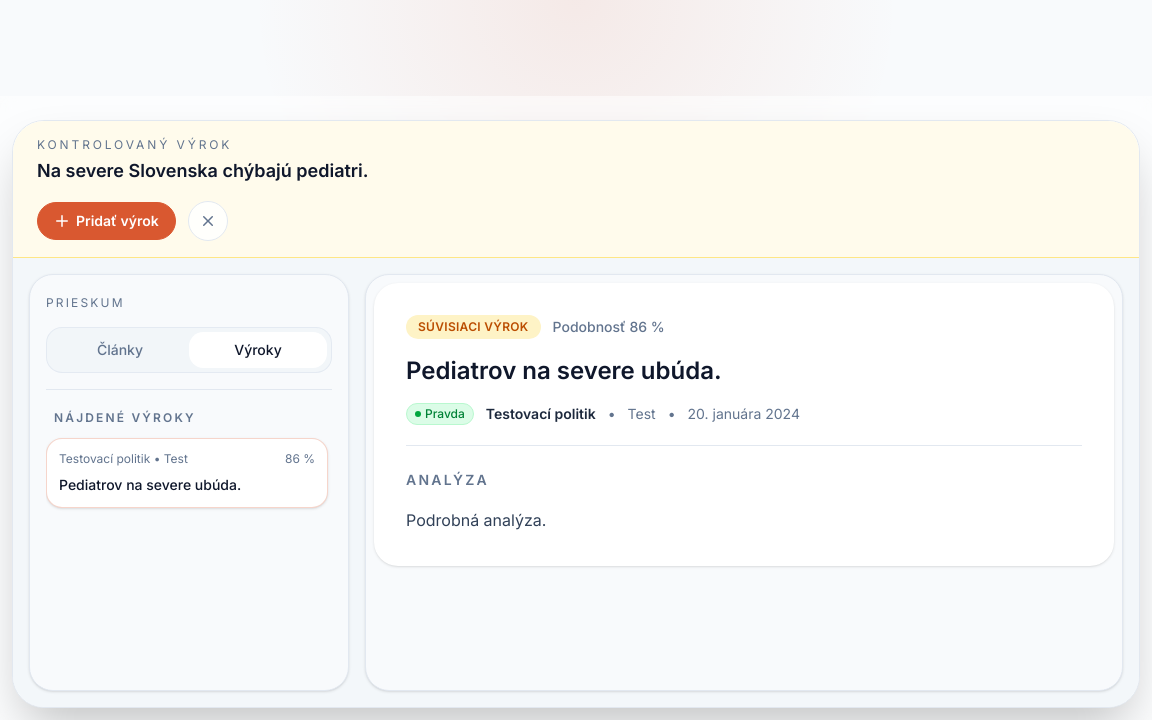
Test: ResearchWorkspace › allows switching to the articles tab when aggregate research has no article items
The image size is (1152, 720).
Click the tab "Výroky" at (258, 350), box [189,332,327,368]
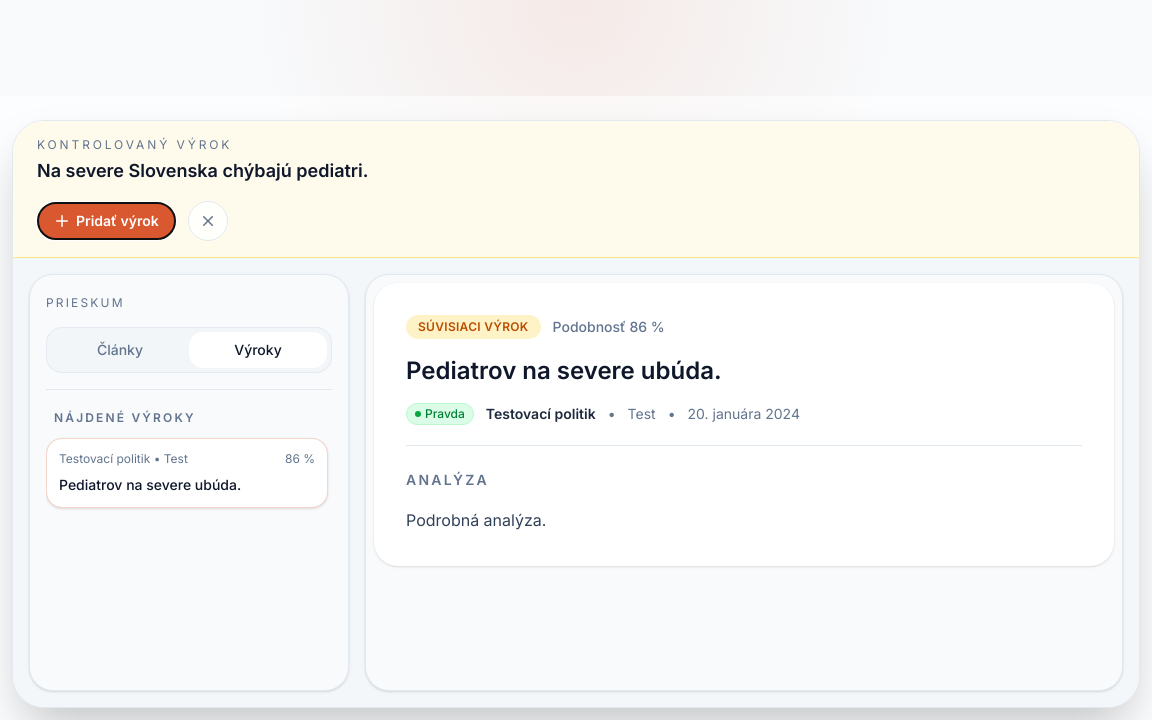
Check: the heading "Pediatrov na severe ubúda." is shown, box [406,356,722,385]
Click the tab "Články" at (120, 350), box [51,332,189,368]
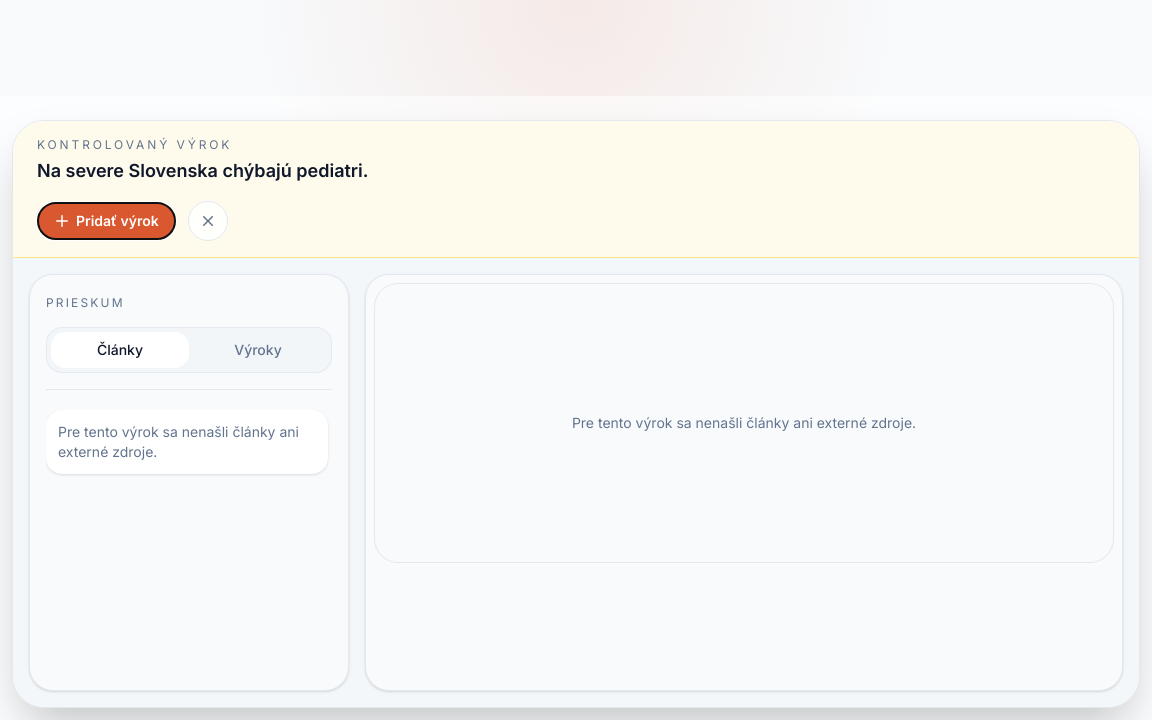
Check: the text "Pre tento výrok sa nenašli články ani externé zdroje." is shown 2 times, box [46,410,328,474]; [374,283,1114,563]
Check: the button "Pediatrov na severe ubúda." is gone
